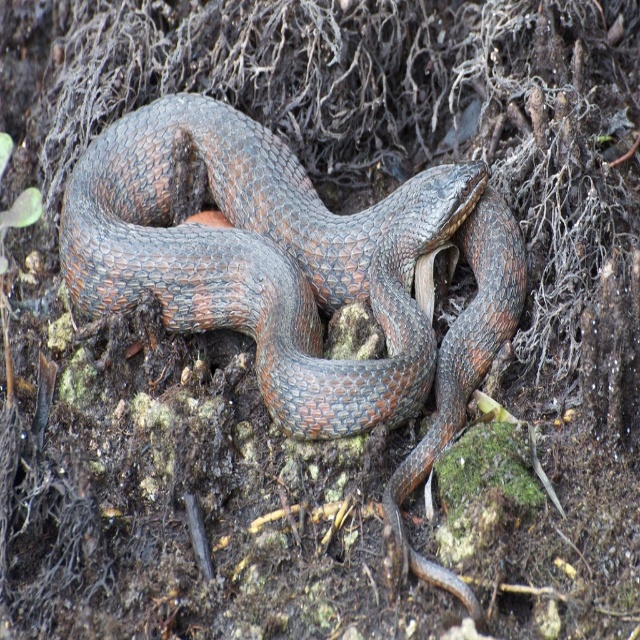Snake: (57, 91, 530, 637)
